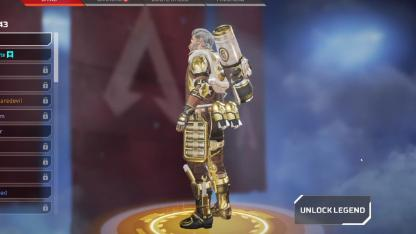Target: (181, 26, 237, 196)
